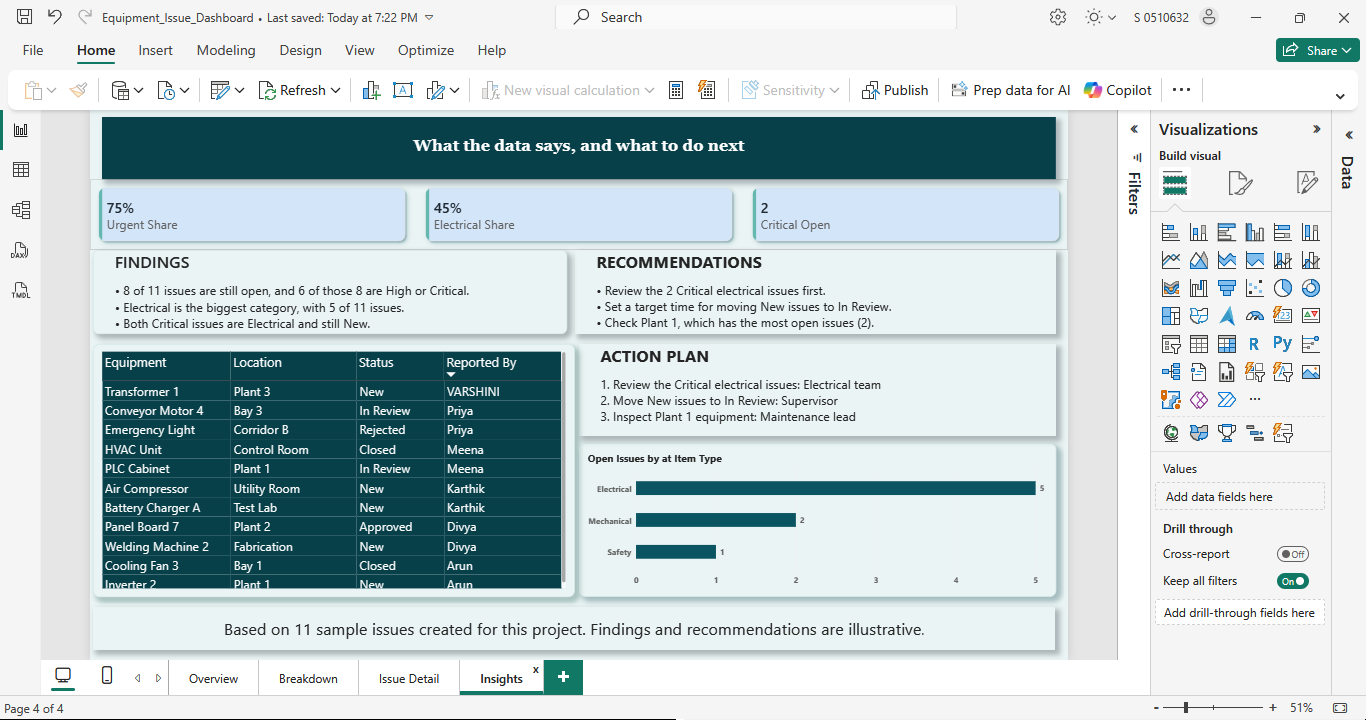

The page's visual inventory and layout, read from the dashboard file:
{"tool":"powerbi","page":{"name":"04_dashboard","canvas":[1920,1080],"ordinal":3},"visuals":[{"type":"cardVisual","title":"Issue Type","fields":{"Data":["Issue.Urgent Share","Issue.Electrical Share","Issue.Critical Open"]},"box":[0,119,1919.8,141.1],"z":0},{"type":"tableEx","title":"Issue Type","fields":{"Values":["Issue.Equipment","Issue.Location","Issue.Status","Issue.Reported By"]},"box":[6.6,562,1891.1,518],"z":1},{"type":"textbox","box":[0,328.4,952.2,233.6],"z":2}]}

Visuals, with their boxes on the page's 1920x1080 design canvas (x1, y1, x2, y2). These are canvas units, not pixel positions in the 1366x720 screenshot, which may show the page scaled, cropped or inside an application window:
"Issue Type" cardVisual: bbox(0, 119, 1920, 260)
"Issue Type" tableEx: bbox(7, 562, 1898, 1080)
textbox: bbox(0, 328, 952, 562)
